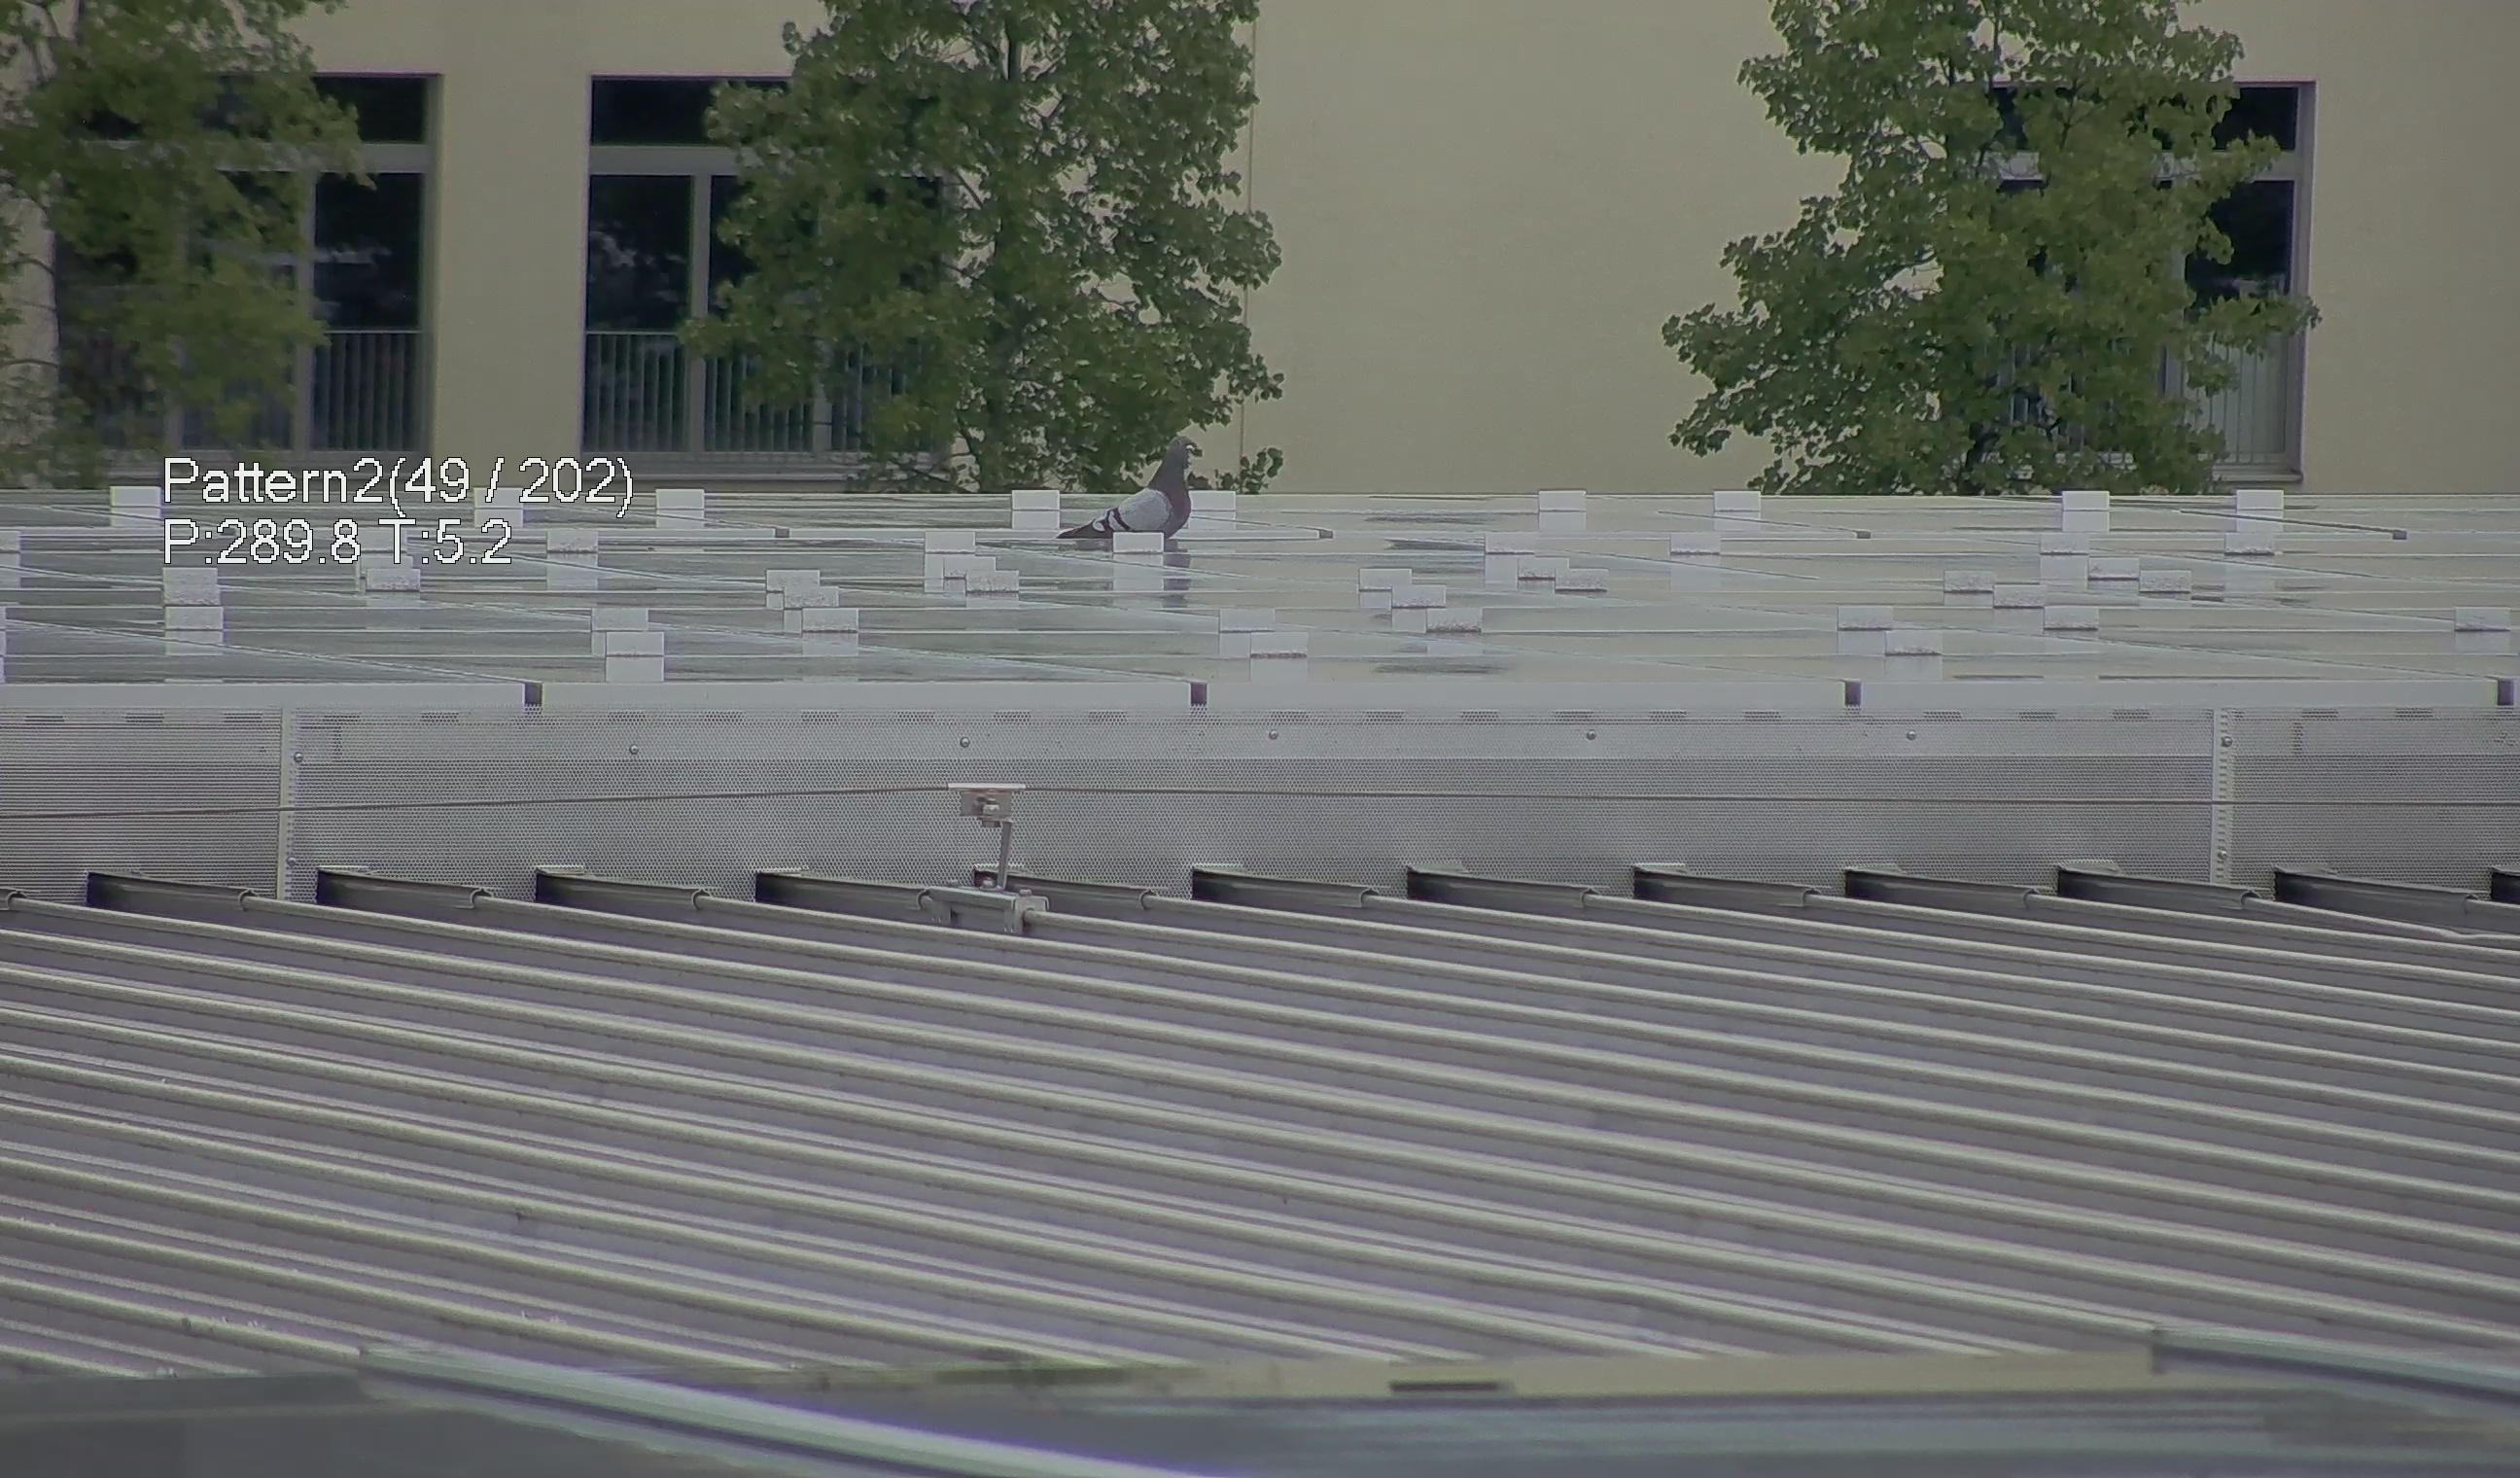Pigeon: (1059, 421, 1227, 561)
